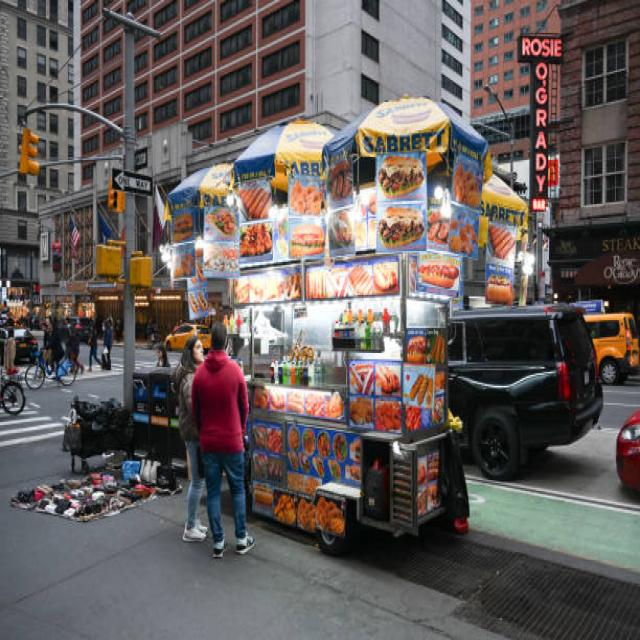Emperan: (157, 86, 538, 584)
